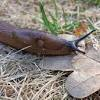slug: (1, 21, 93, 56)
